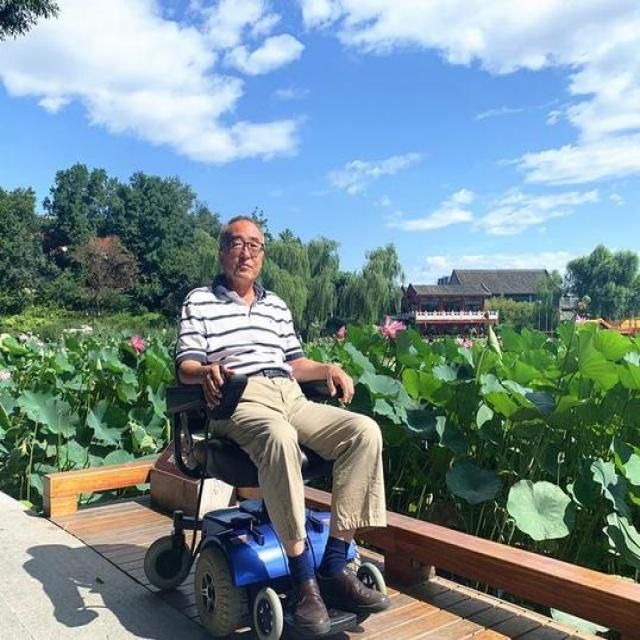wheelchairs: (139, 344, 390, 640)
